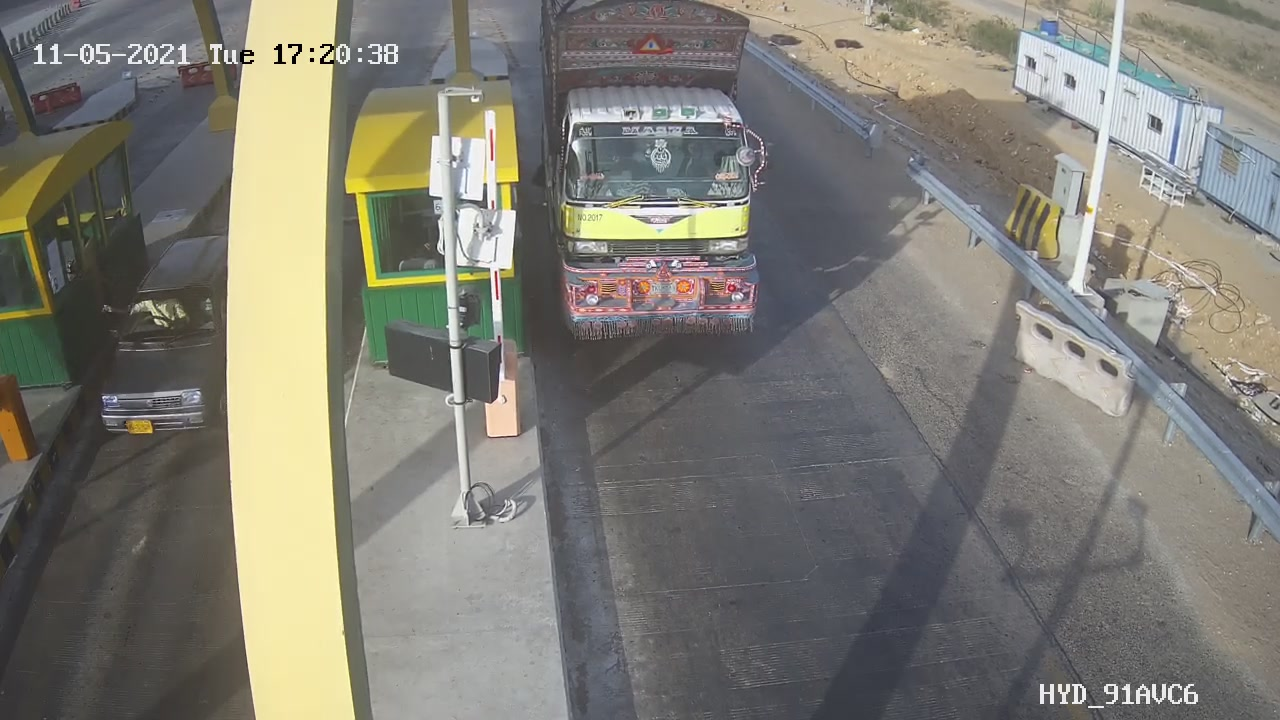F6: (524, 1, 800, 372)
